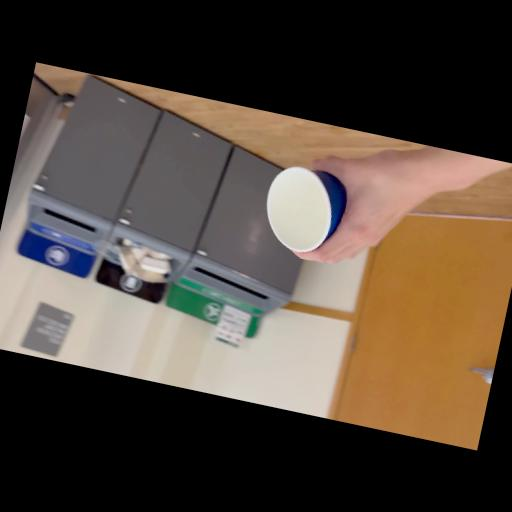lp_paper_cup: (256, 160, 351, 260)
